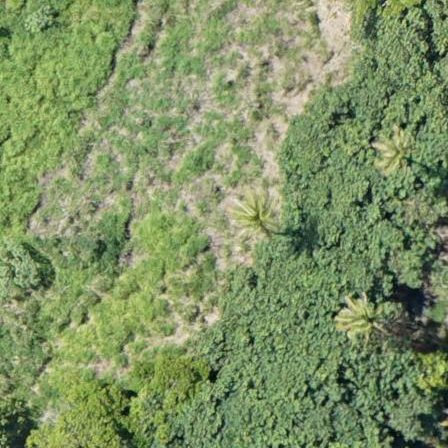palm_tree: (226, 187, 287, 250), (335, 293, 388, 342), (374, 129, 418, 175)
